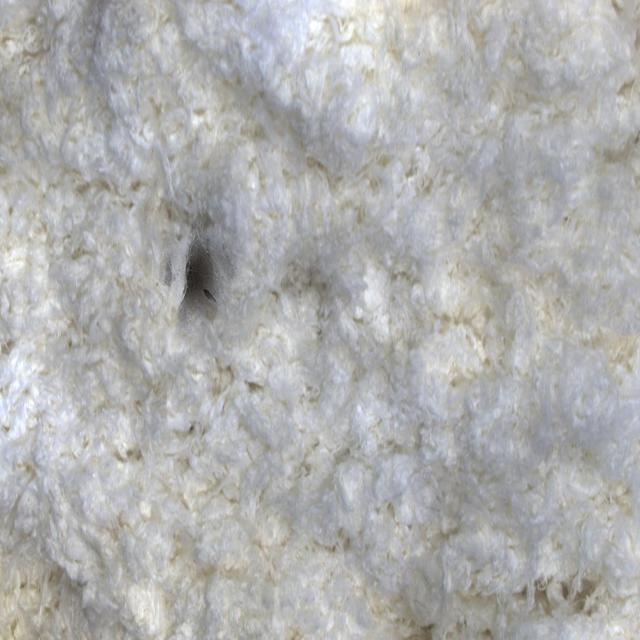dust: (143, 198, 265, 350)
